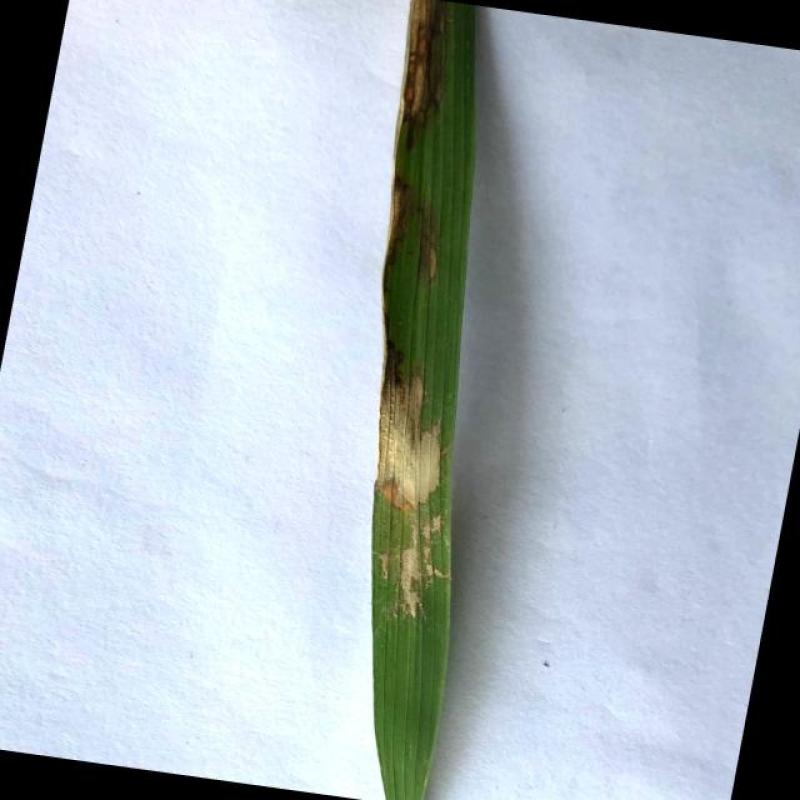Bacterial_Leaf_Blight: (365, 370, 449, 626), (402, 0, 438, 135)
